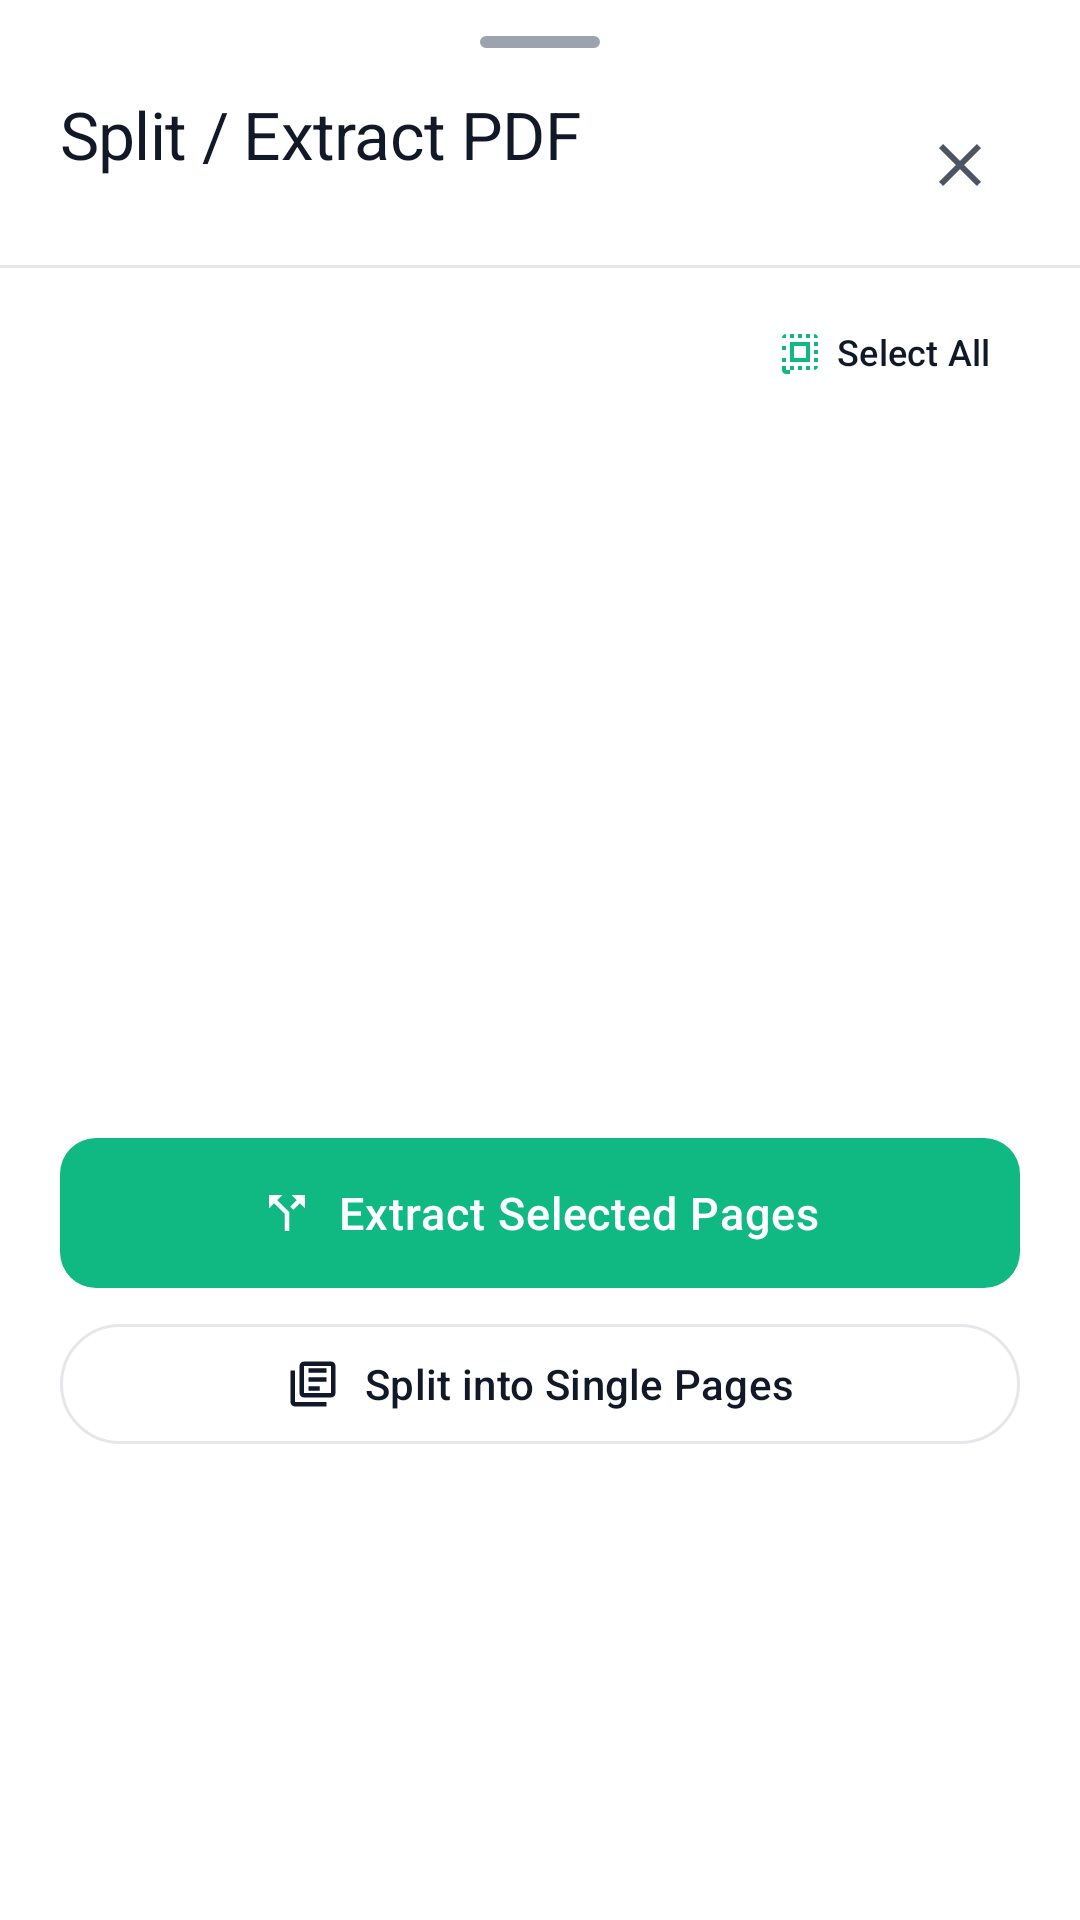

Icon bounding boxes for this 1080×1920 phone screenshot, format (x1, y1, x2, y2):
Close: (939, 144, 981, 186)
